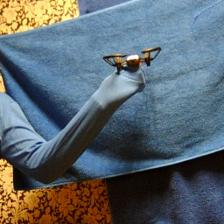drone: (103, 48, 162, 76)
